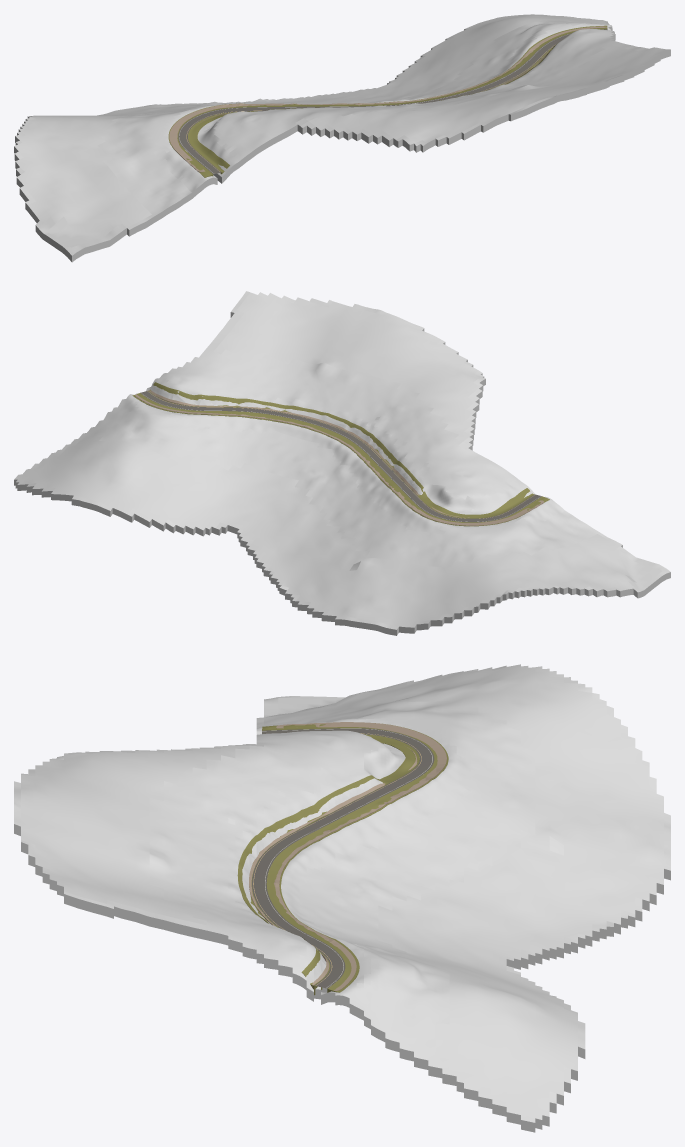
The model's file is conz_22.glb.
The picture shows the model from 3 angles, top to bottom: view 1: azimuth 30°, elevation 25°; view 2: azimuth 150°, elevation 25°; view 3: azimuth 270°, elevation 25°; orthographic projection. The views are drawn at different scales.
Visible parts, largest first — view 1: terrain22, road22, verge22R, lot_gravel_s222, verge22L; view 2: terrain22, road22, verge22L, verge22R, lot_gravel_s222, lot_gravel_s522; view 3: terrain22, road22, verge22R, verge22L, lot_gravel_s222, lot_gravel_s522.
Part boxes in pixels (bbox=[...]): terrain22: bbox=[14, 14, 670, 262]; road22: bbox=[178, 29, 607, 174]; verge22R: bbox=[168, 25, 607, 177]; lot_gravel_s222: bbox=[169, 26, 606, 172]; verge22L: bbox=[187, 29, 604, 174]; terrain22: bbox=[14, 291, 670, 635]; road22: bbox=[140, 391, 541, 522]; verge22L: bbox=[148, 382, 534, 518]; verge22R: bbox=[132, 393, 549, 526]; lot_gravel_s222: bbox=[135, 394, 543, 525]; lot_gravel_s522: bbox=[148, 390, 469, 517]; terrain22: bbox=[14, 664, 670, 1132]; road22: bbox=[252, 728, 434, 988]; verge22R: bbox=[262, 723, 448, 992]; verge22L: bbox=[237, 734, 419, 995]; lot_gravel_s222: bbox=[274, 722, 446, 990]; lot_gravel_s522: bbox=[249, 746, 417, 988].
Bounding box in the file's own units: 296 × 64.57 × 184.
